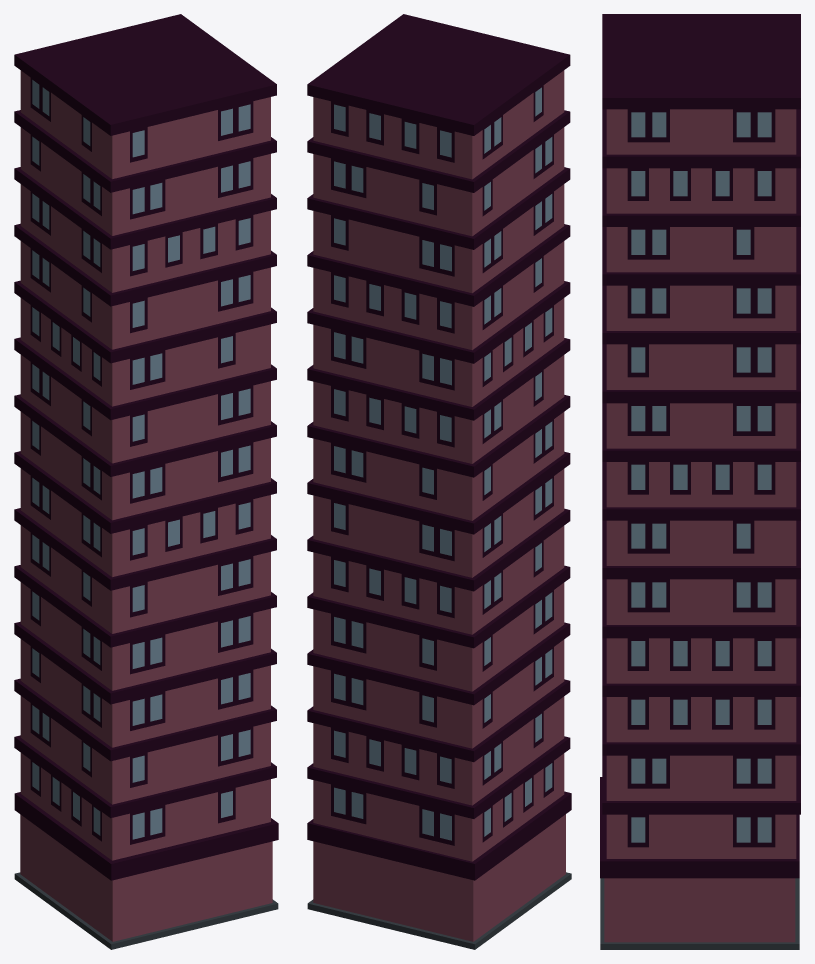
File: sky pink.fbx
3 views of the same model, side by side, from view 1: azimuth 30°, elevation 25°; view 2: azimuth 150°, elevation 25°; view 3: azimuth 270°, elevation 25° (orthographic). The views are drawn at different scales.
Visible parts, largest first — view 1: skyscraper pink; view 2: skyscraper pink; view 3: skyscraper pink.
Part boxes in pixels (left/top/right/bottom): skyscraper pink: left=14, top=14, right=278, bottom=949; skyscraper pink: left=307, top=14, right=571, bottom=949; skyscraper pink: left=600, top=14, right=800, bottom=949.
Size of the model in its own units: 6.17 by 29.05 by 6.21.
